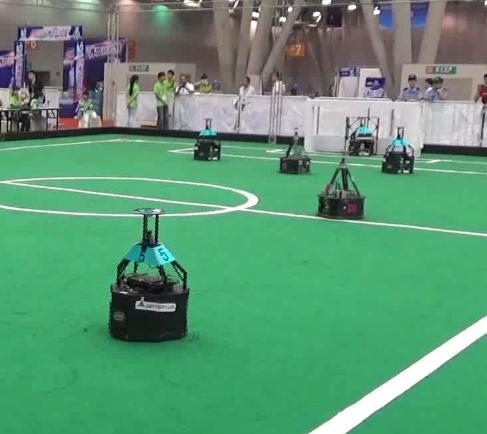robot: (102, 202, 194, 343), (314, 147, 365, 219)
